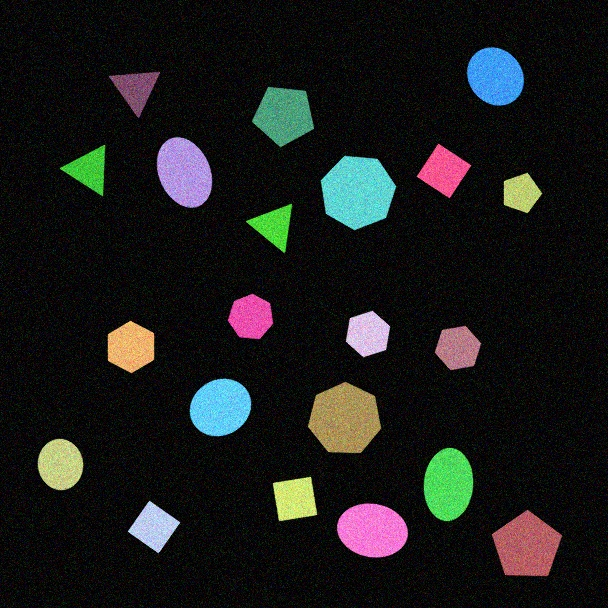Circulo: (189, 378, 252, 437), (466, 47, 525, 106), (37, 438, 84, 491)
Elipse: (156, 136, 213, 209), (336, 503, 409, 558), (423, 447, 474, 522)
Heptagono: (320, 155, 397, 231), (307, 381, 382, 454), (227, 293, 274, 340)
Hexagono: (107, 320, 155, 374), (434, 325, 482, 371), (345, 310, 391, 358)
Pentagono: (491, 509, 563, 577), (251, 86, 315, 148), (503, 172, 543, 214)
Quadrado: (416, 143, 472, 199), (127, 500, 181, 554), (272, 476, 318, 522)
Triangulo: (108, 71, 161, 119), (60, 144, 106, 197), (246, 203, 293, 254)
